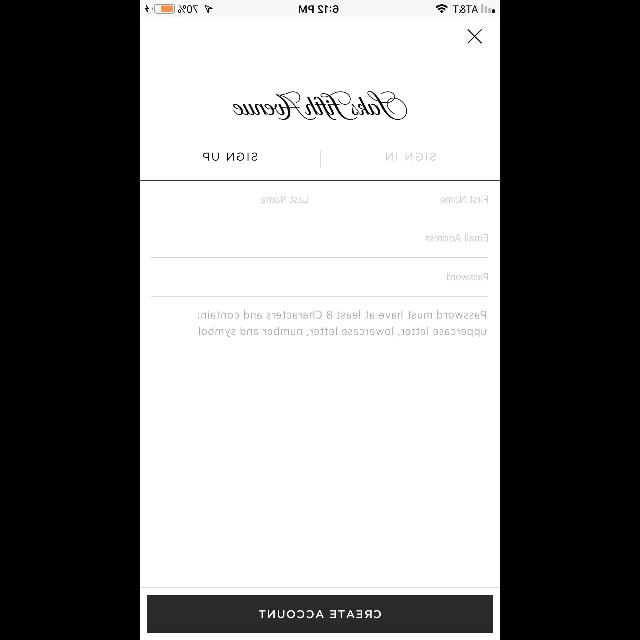icon: (466, 28, 482, 44)
image: (233, 92, 407, 120)
input: (152, 273, 488, 297), (152, 234, 488, 258), (151, 196, 307, 220), (332, 195, 488, 219)
text: (198, 311, 486, 337), (425, 234, 487, 242), (203, 153, 257, 161), (386, 153, 436, 161), (440, 195, 488, 203), (261, 195, 307, 203), (447, 273, 488, 281)
textbutton: (147, 595, 493, 633)
uppertaskbar: (140, 1, 500, 18)
